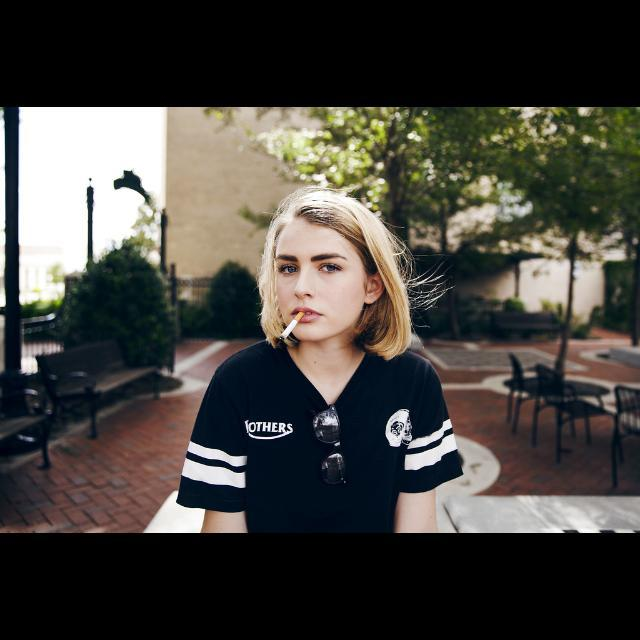rokok: (275, 310, 303, 344)
